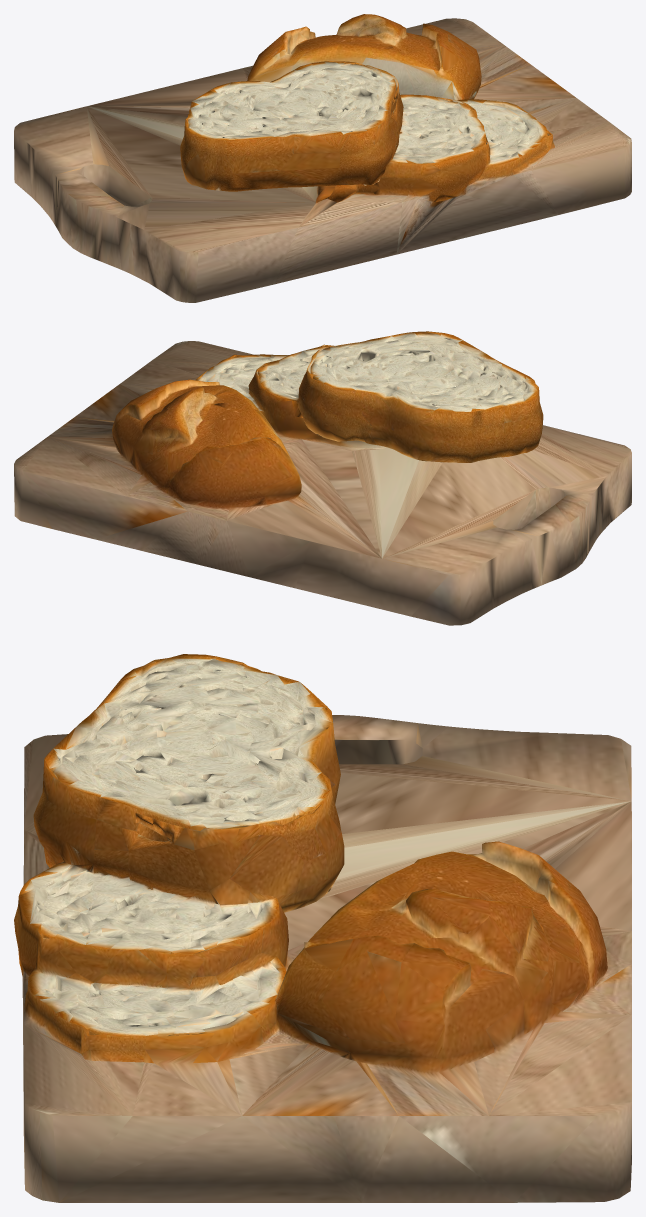
The model's file is board.glb.
3 views of the same model, one above another, from view 1: azimuth 30°, elevation 25°; view 2: azimuth 150°, elevation 25°; view 3: azimuth 270°, elevation 25° (orthographic). The views are drawn at different scales.
Parts seen in each view (by area): view 1: Mesh_0; view 2: Mesh_0; view 3: Mesh_0.
Boxes of the visible parts, left/top/right/bottom form: Mesh_0: left=14, top=14, right=631, bottom=302; Mesh_0: left=14, top=331, right=631, bottom=625; Mesh_0: left=14, top=654, right=631, bottom=1202.
Size of the model in its own units: 0.3998 by 0.1001 by 0.26.
Materials: 1 (1 with a texture image).
